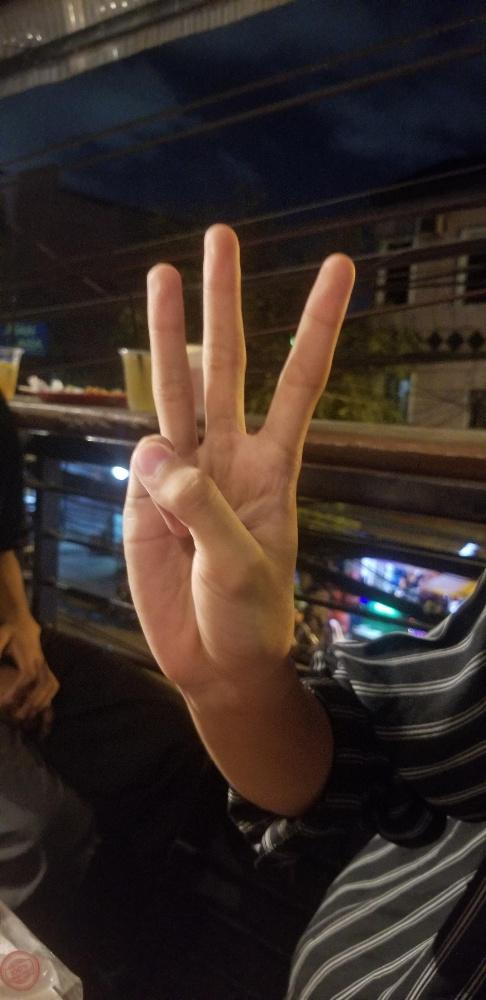w: (119, 222, 358, 676)
